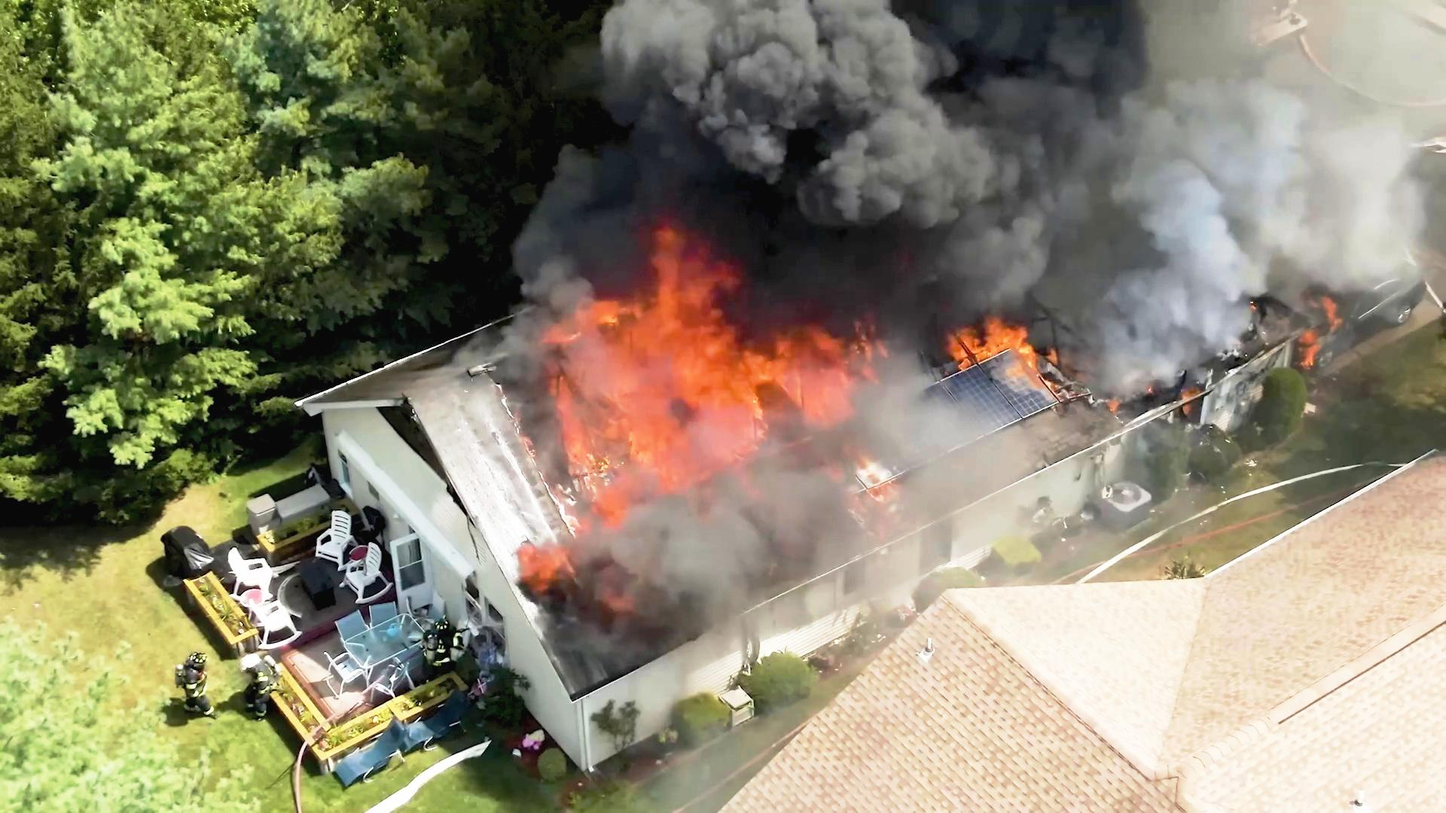fire: (560, 283, 761, 458)
smoke: (876, 83, 1237, 299), (599, 2, 939, 196)
